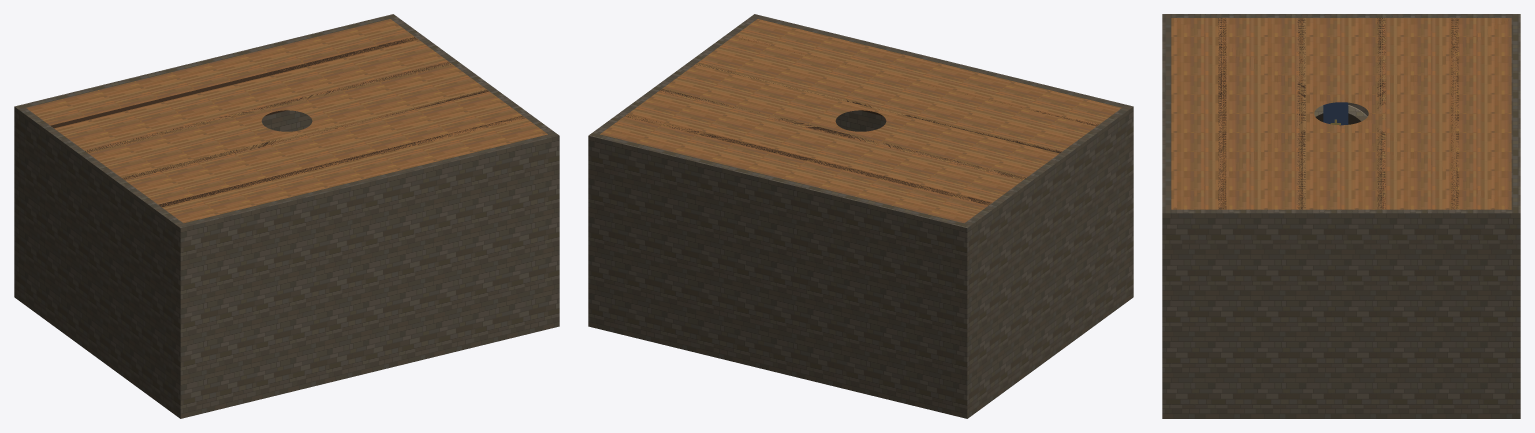
The model's file is menu.glb.
3 views of the same model, side by side, from view 1: azimuth 30°, elevation 25°; view 2: azimuth 150°, elevation 25°; view 3: azimuth 270°, elevation 25° (orthographic). The views are drawn at different scales.
Parts seen in each view (by area): view 1: menu-0, menu-1, menu-2; view 2: menu-0, menu-1, menu-2; view 3: menu-0, menu-1, menu-2.
Boxes of the visible parts, x1,y1,x2,y2 form: menu-0: (14, 14, 559, 418); menu-1: (26, 19, 547, 223); menu-2: (50, 37, 524, 206); menu-0: (588, 14, 1133, 418); menu-1: (600, 19, 1121, 223); menu-2: (624, 37, 1098, 205); menu-0: (1162, 14, 1520, 418); menu-1: (1171, 18, 1511, 209); menu-2: (1218, 18, 1458, 209).
Bounding box in the file's own units: 20.8 × 10 × 15.8.
3 materials, 2 textured.
